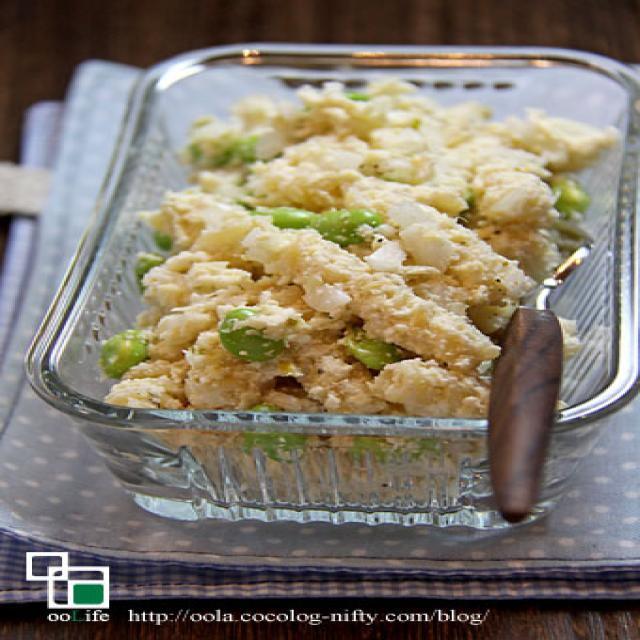蔬菜料理: (45, 18, 640, 544)
